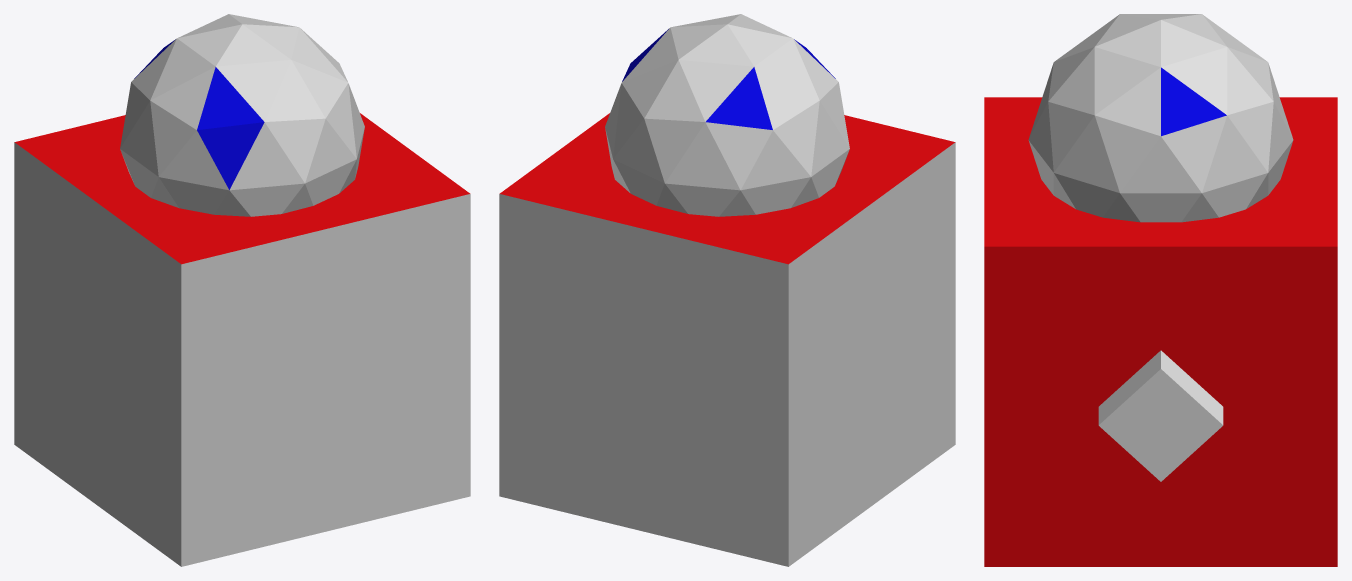
The picture shows the model from 3 angles, left to right: view 1: azimuth 30°, elevation 25°; view 2: azimuth 150°, elevation 25°; view 3: azimuth 270°, elevation 25°; orthographic projection. The views are drawn at different scales.
Visible parts, largest first — view 1: Cube_Large, Sphere; view 2: Cube_Large, Sphere; view 3: Cube_Large, Sphere, Cube_Small.
Boxes of the visible parts, box(x1,y1,x2,y2) form: Cube_Large: box(14, 113, 470, 566); Sphere: box(120, 14, 364, 216); Cube_Large: box(499, 113, 955, 566); Sphere: box(605, 14, 849, 216); Cube_Large: box(984, 97, 1337, 566); Sphere: box(1028, 14, 1293, 222); Cube_Small: box(1098, 350, 1223, 481).
Bounding box in the file's own units: 2.25 × 2.95 × 2.
